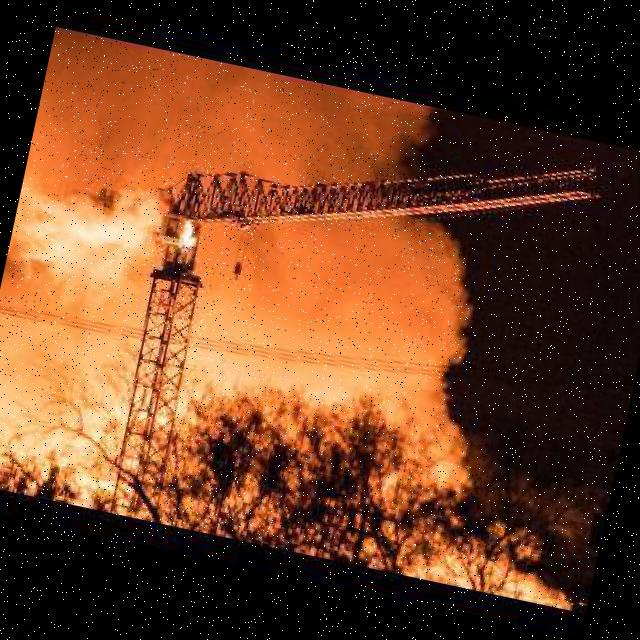fire: (148, 196, 234, 291)
